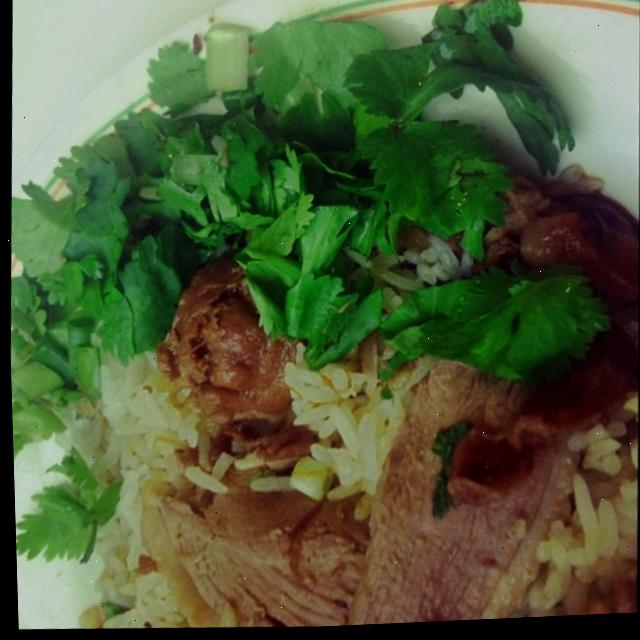米饭主食: (12, 93, 640, 640)
